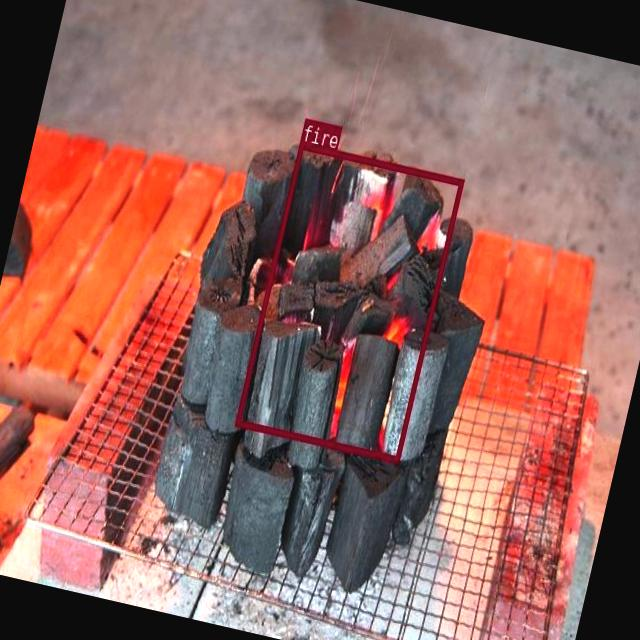fire: (234, 140, 463, 462)
